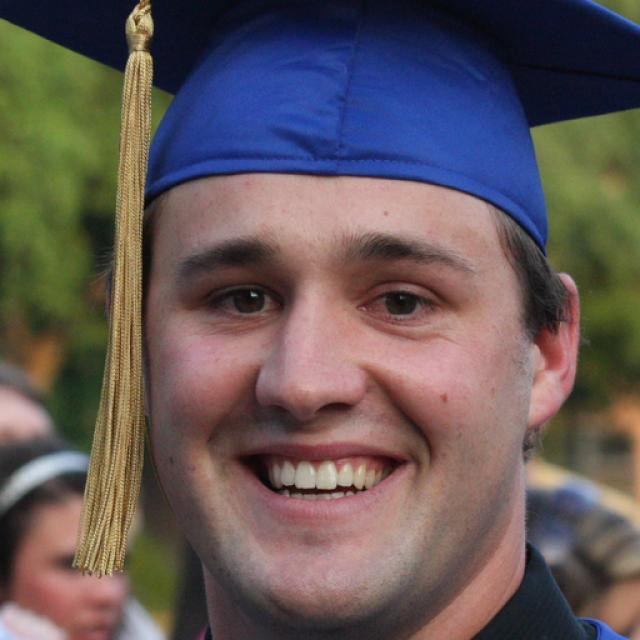Acne: (434, 385, 458, 415)
